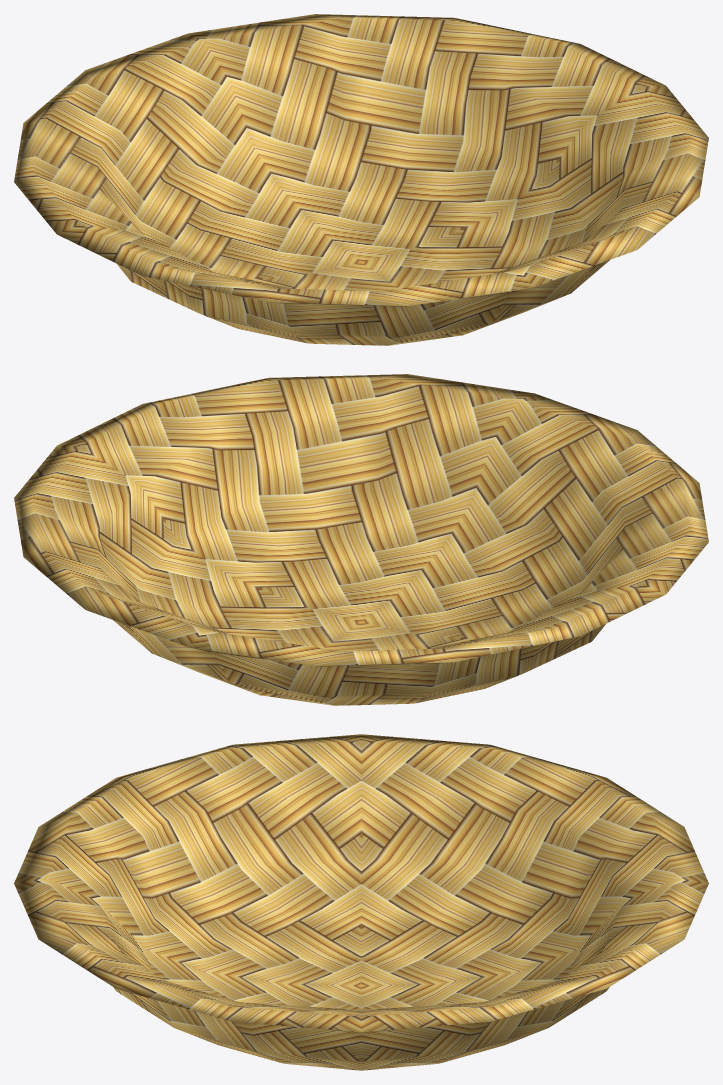
Rendered from zaru.fbx.
The picture shows the model from 3 angles, top to bottom: view 1: azimuth 30°, elevation 25°; view 2: azimuth 150°, elevation 25°; view 3: azimuth 270°, elevation 25°; orthographic projection.
Parts seen in each view (by area): view 1: 球; view 2: 球; view 3: 球.
Boxes of the visible parts, x1,y1,x2,y2 form: 球: (14,14,708,345); 球: (14,374,708,705); 球: (14,734,708,1070).
Bounding box in the file's own units: 23.69 × 5.14 × 23.34.
1 material, 1 textured.
